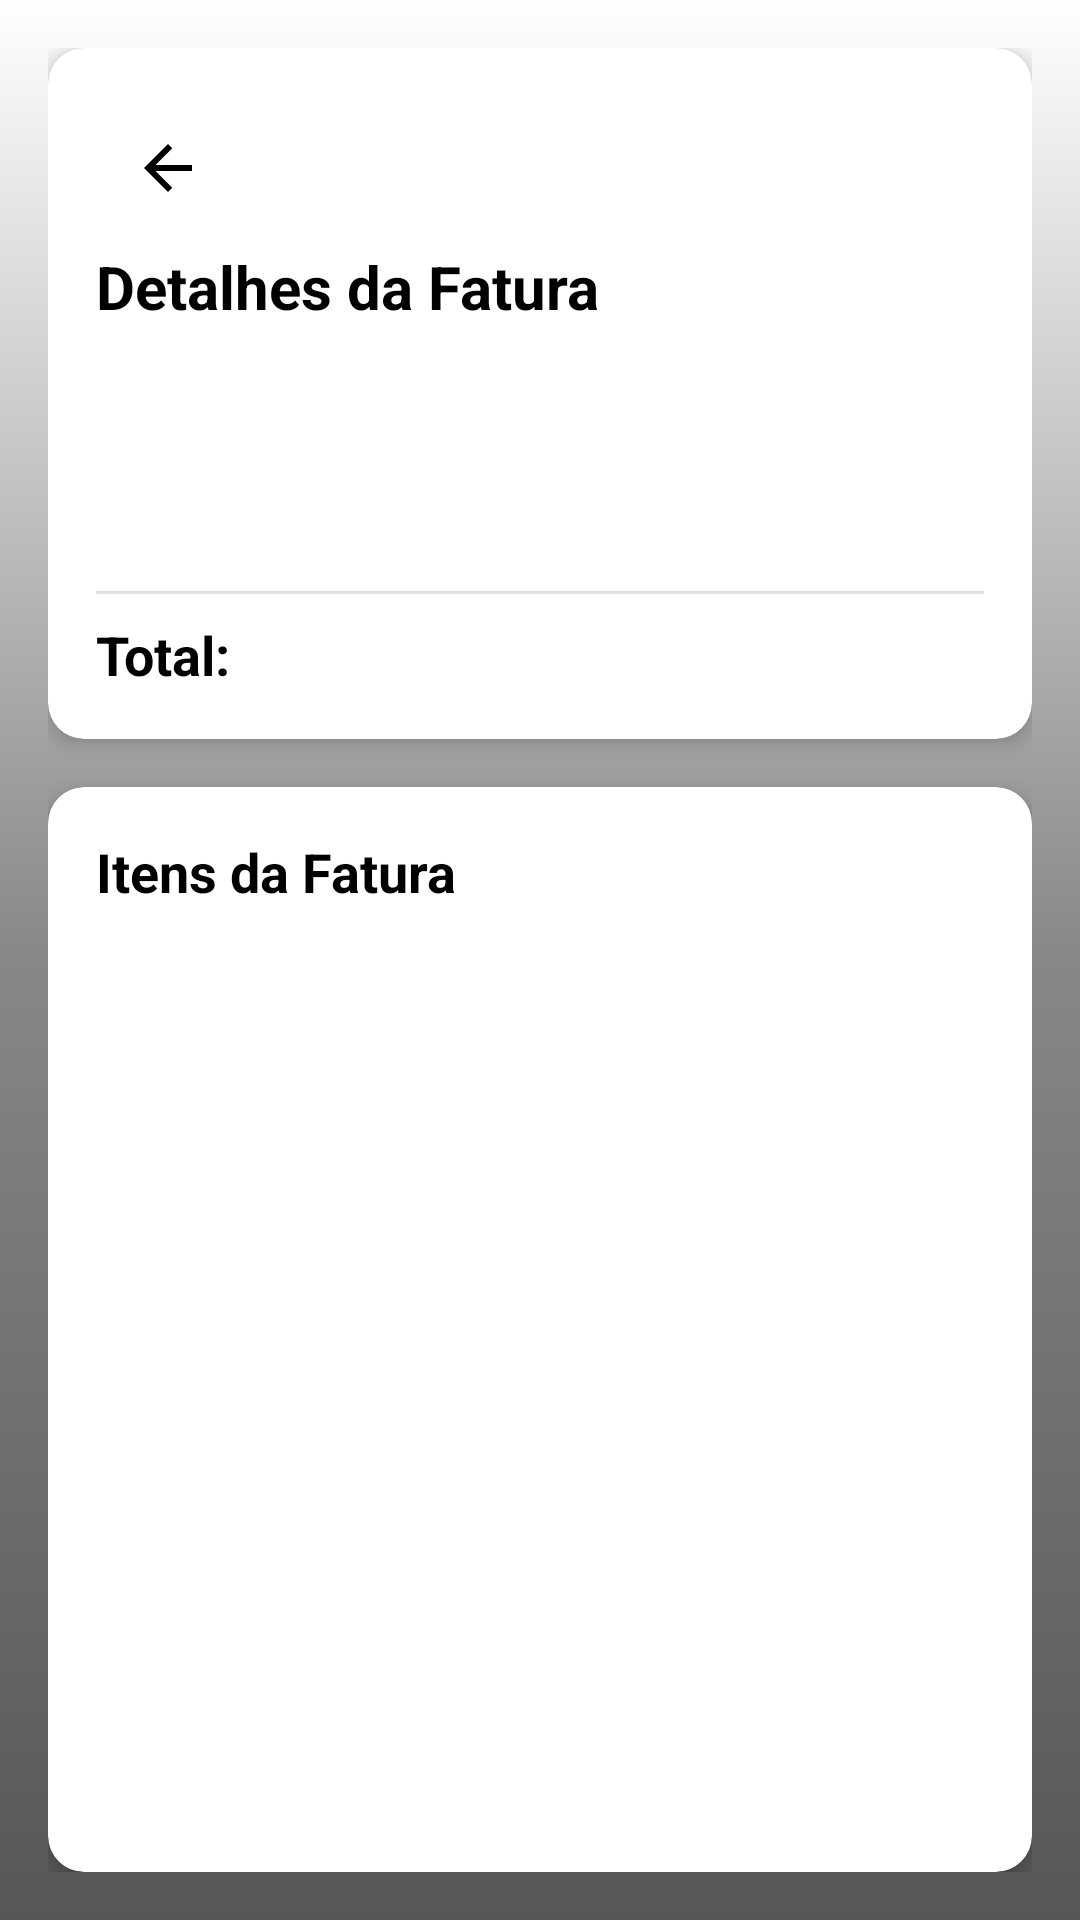

Where to tap for icons on this 1080px x 1920px app screen, as point (x, y):
back: point (168, 168)
